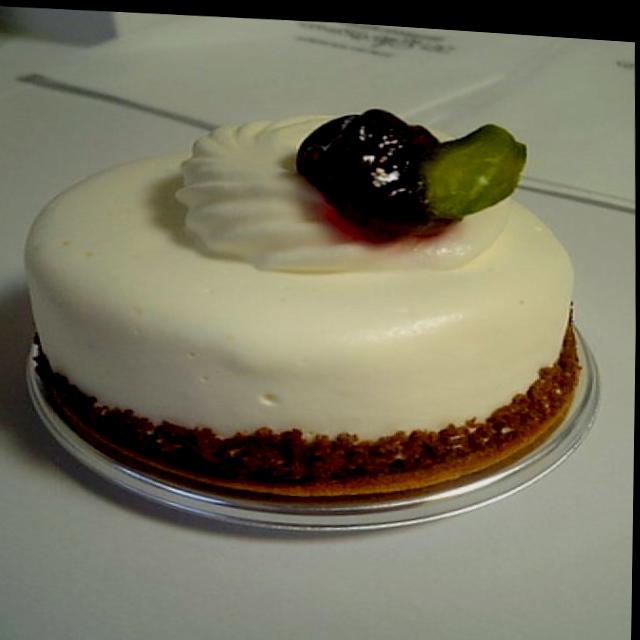蛋糕甜品: (1, 59, 606, 549)
